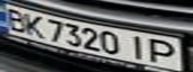0: (100, 28, 124, 56)
2: (78, 25, 103, 53)
3: (60, 20, 84, 48)
7: (42, 17, 66, 44)
B: (0, 6, 30, 33)
I: (124, 33, 151, 61)
K: (18, 11, 48, 38)
P: (142, 37, 184, 64)
